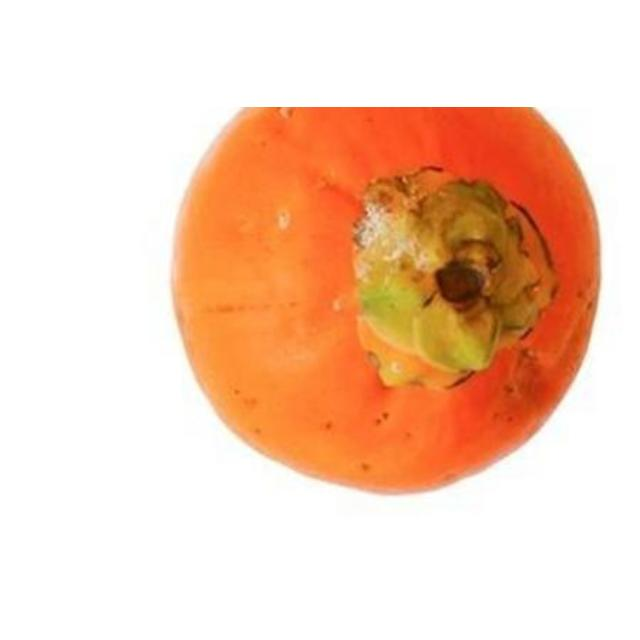good: (168, 107, 604, 498)
